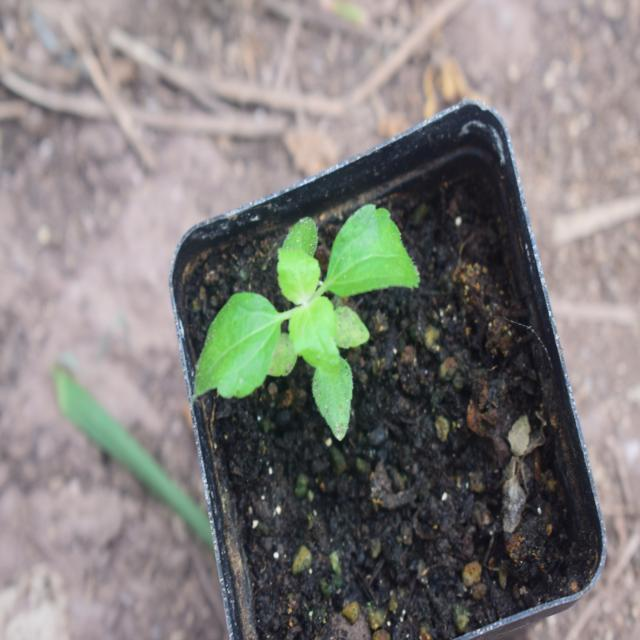billygoat_weed: (182, 197, 420, 438)
